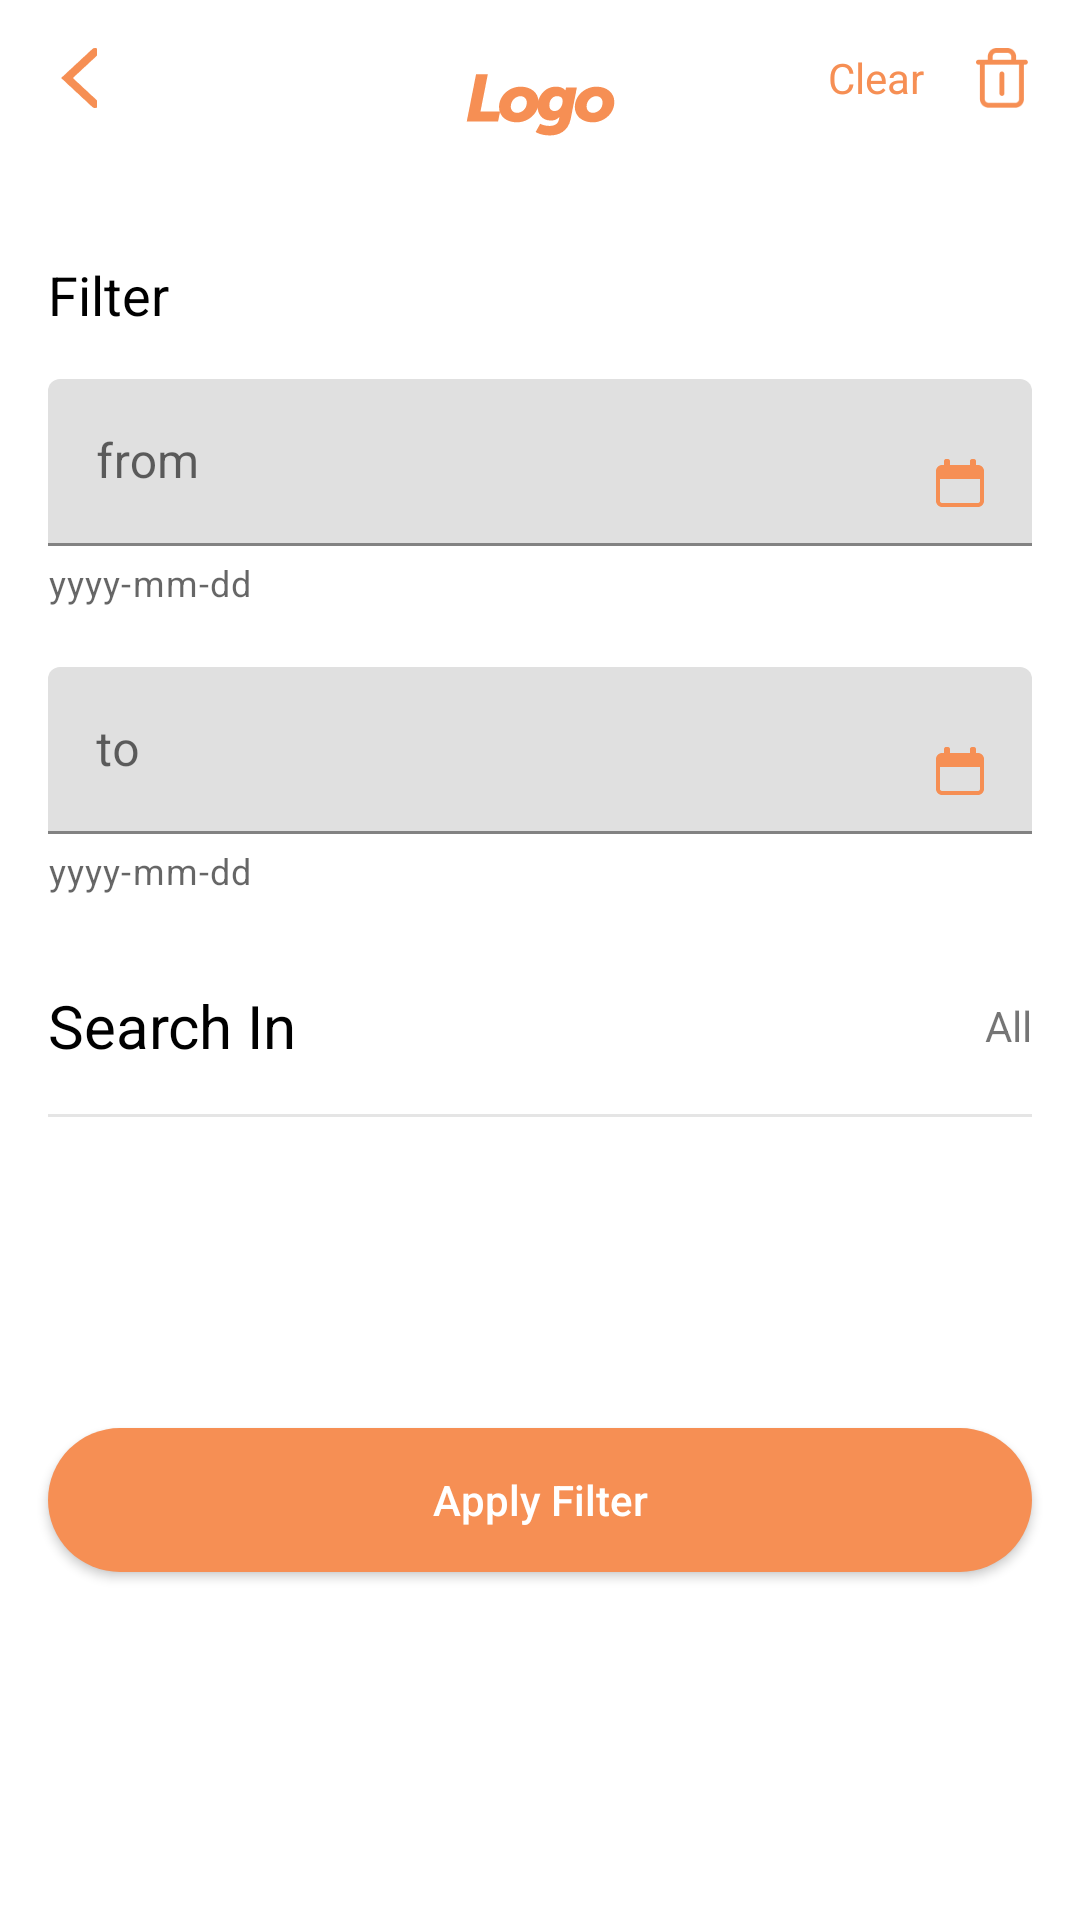

Icon click points for this 1080px x 1920px phone screenshot, format (x,y):
back: (79,78)
trash: (1002,78)
